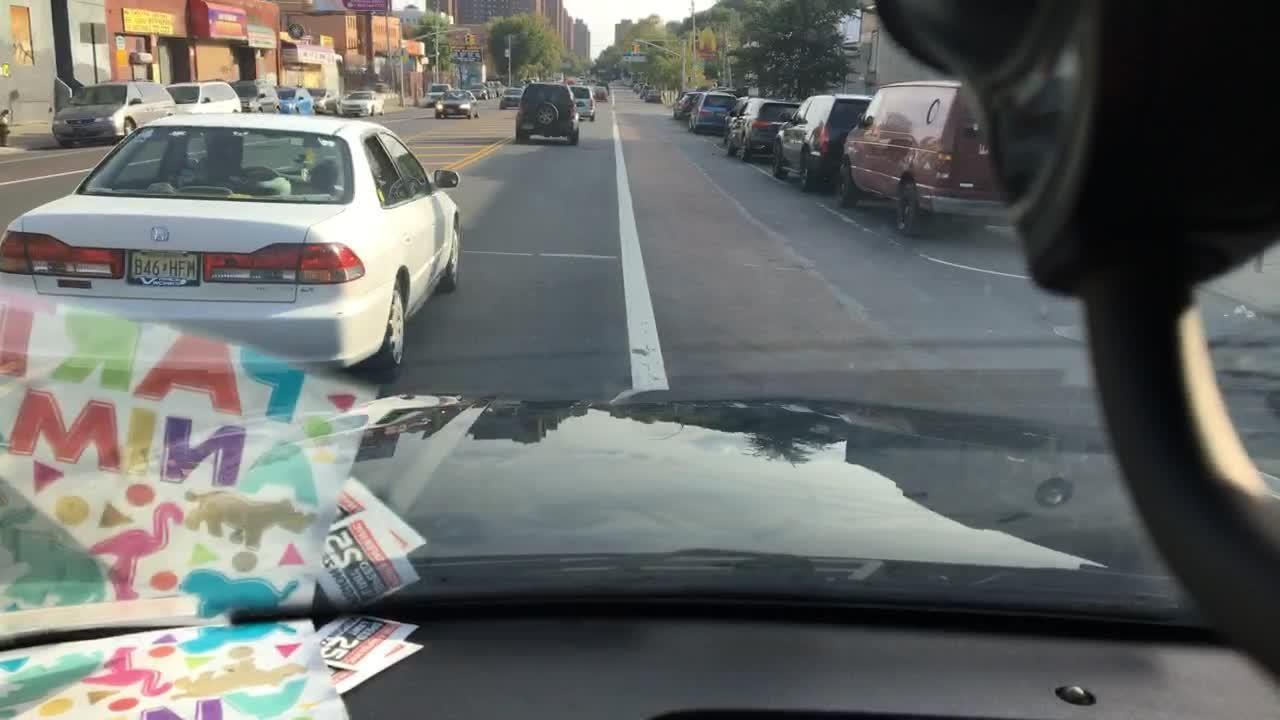Honda: (138, 217, 190, 261)
